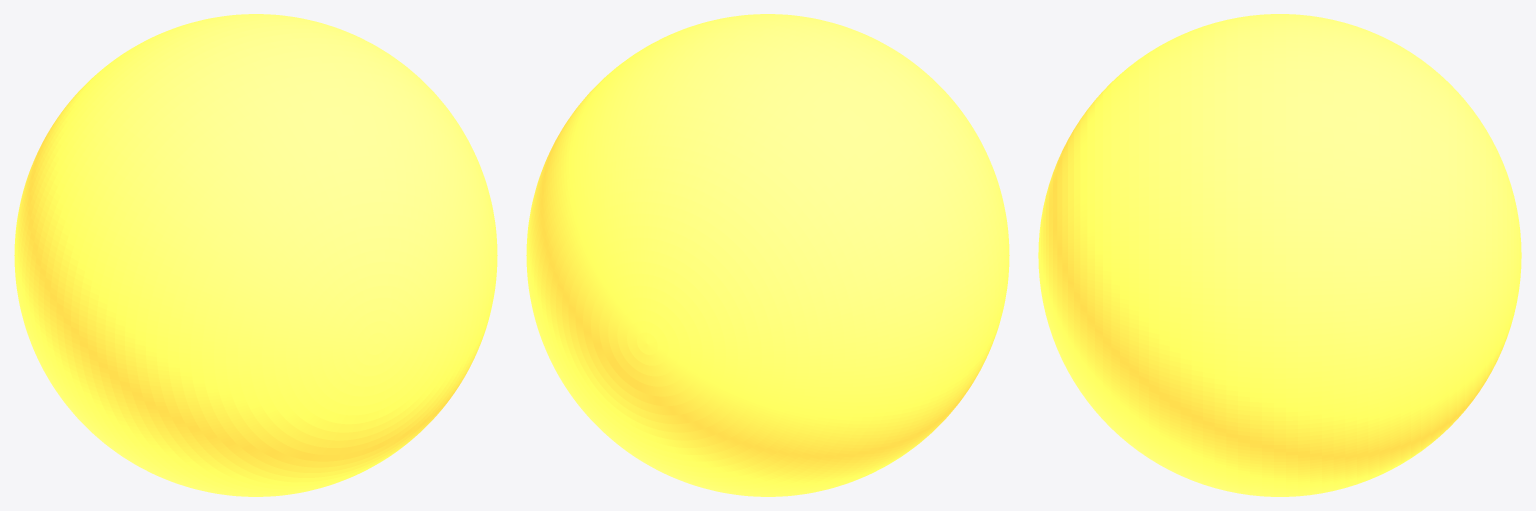
The model's file is sun.glb.
The picture shows the model from 3 angles, left to right: view 1: azimuth 30°, elevation 25°; view 2: azimuth 150°, elevation 25°; view 3: azimuth 270°, elevation 25°; orthographic projection.
Parts seen in each view (by area): view 1: Sun; view 2: Sun; view 3: Sun.
Boxes of the visible parts, <box> form: Sun: <box>14,14,497,496</box>; Sun: <box>526,14,1009,496</box>; Sun: <box>1038,14,1521,496</box>.
Bounding box in the file's own units: 2 × 2 × 2.
